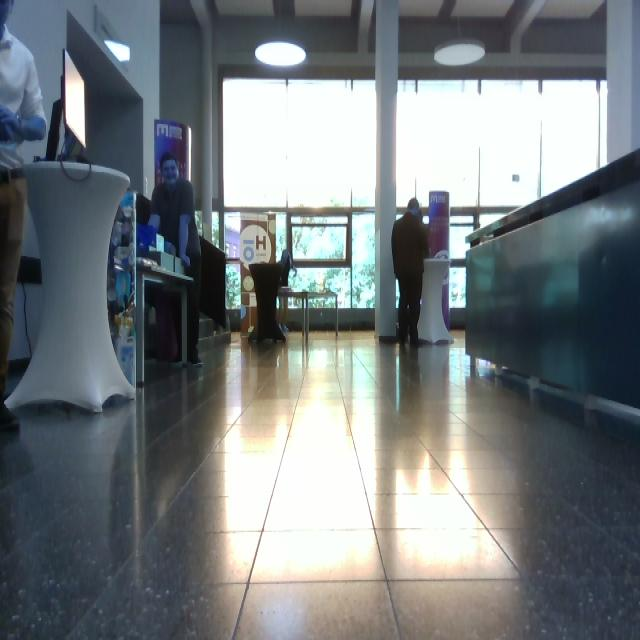light bulb: (254, 1, 307, 68), (63, 49, 87, 149), (255, 41, 307, 68), (434, 40, 486, 66), (104, 40, 131, 62)
person: (1, 1, 48, 430), (148, 152, 203, 366), (391, 198, 429, 348)
pillar: (5, 160, 137, 413), (374, 1, 400, 342)
staircase: (464, 146, 640, 428)
tiled floor: (2, 327, 639, 639)
window: (222, 76, 377, 317)
